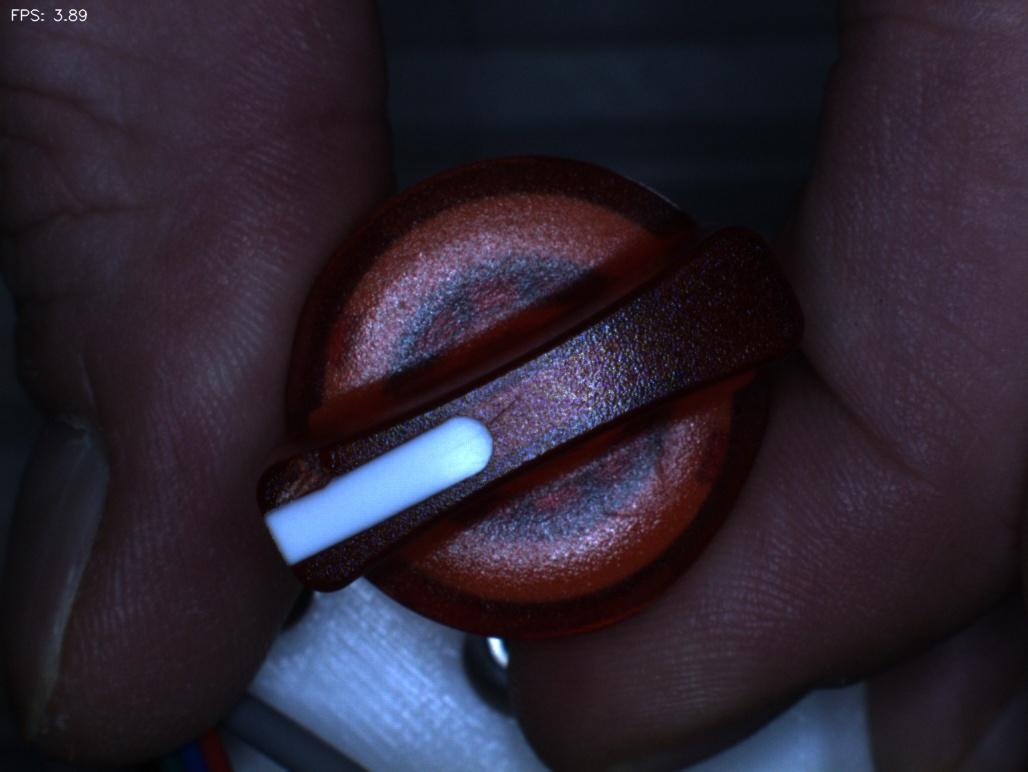Choc: (243, 441, 352, 525)
